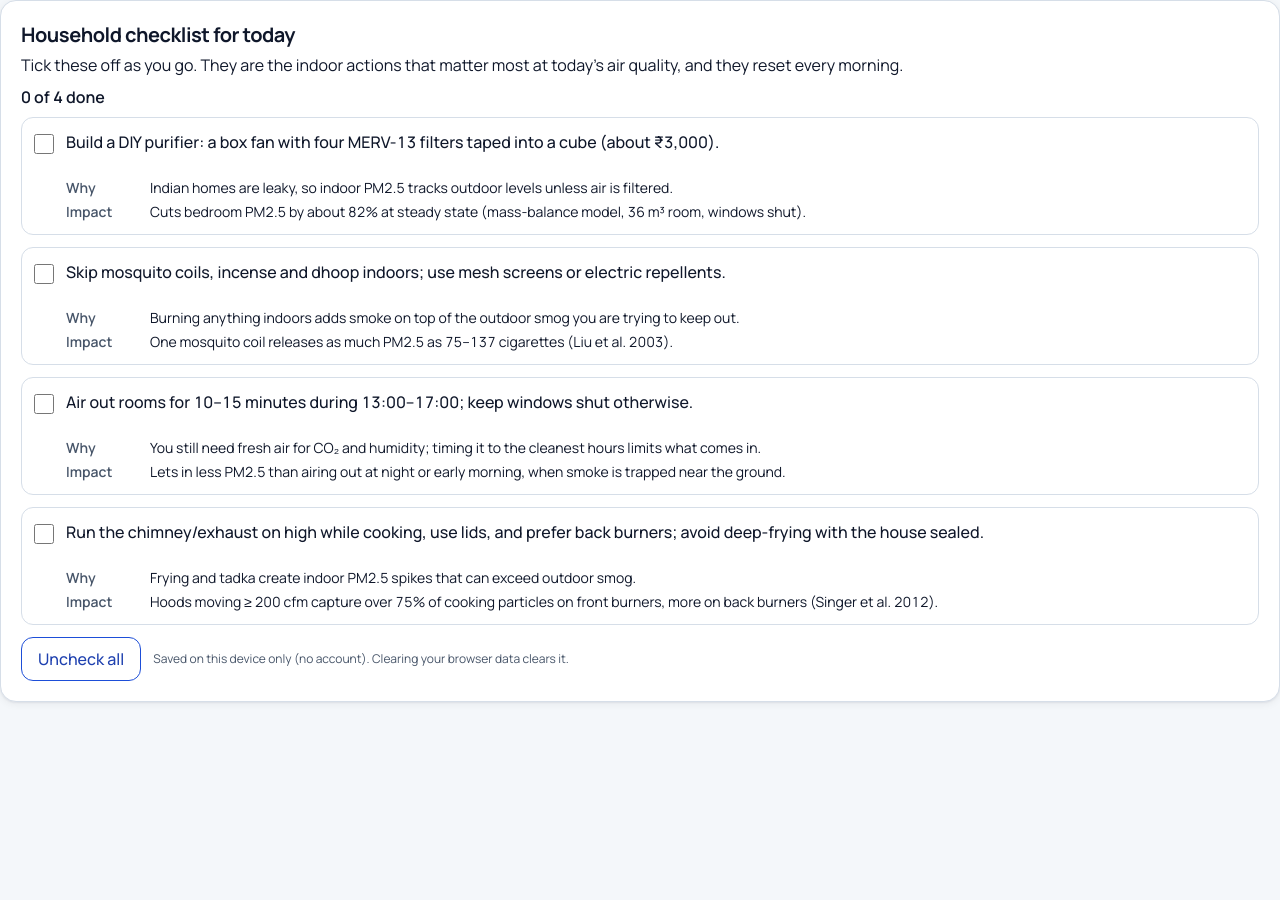
Checklist › ignores corrupt saved data and keeps working when storage is blocked
The width and height of the screenshot is (1280, 900).
Expected: the text "0 of 4 done" is shown, left=21, top=86, right=105, bottom=108
Click the 1st checkbox: (44, 144) left=34, top=134, right=54, bottom=154
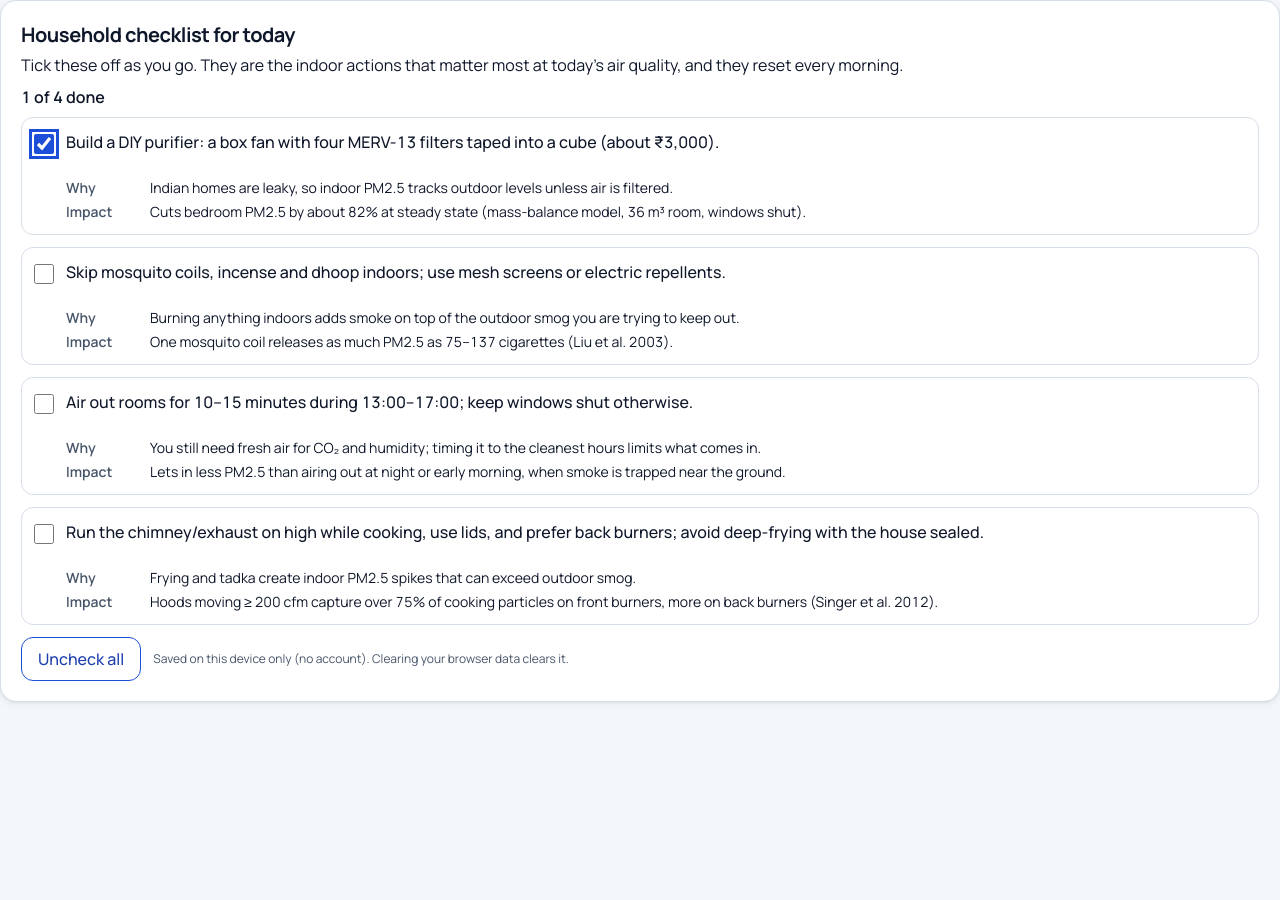
Expected: the text "1 of 4 done" is shown, left=21, top=86, right=105, bottom=108
